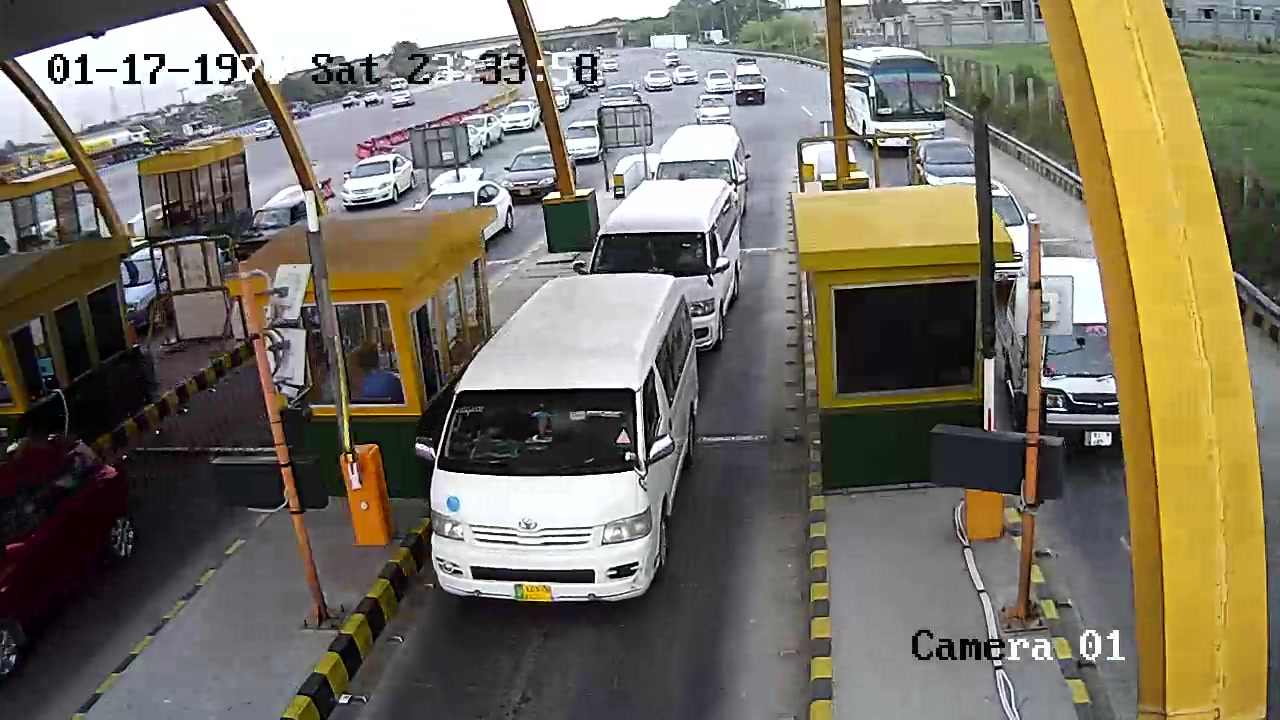F2: (424, 268, 721, 607)
